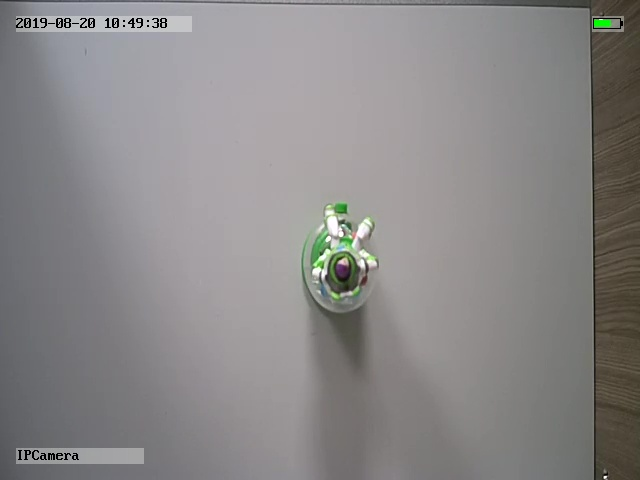buzz: (295, 202, 383, 317)
